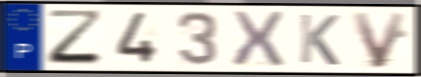3: (175, 9, 221, 68)
4: (114, 10, 161, 66)
K: (297, 12, 341, 68)
V: (348, 10, 410, 71)
X: (229, 9, 287, 69)
Z: (46, 8, 107, 67)
